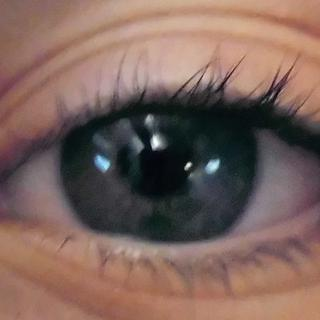pupil: (119, 127, 190, 198)
